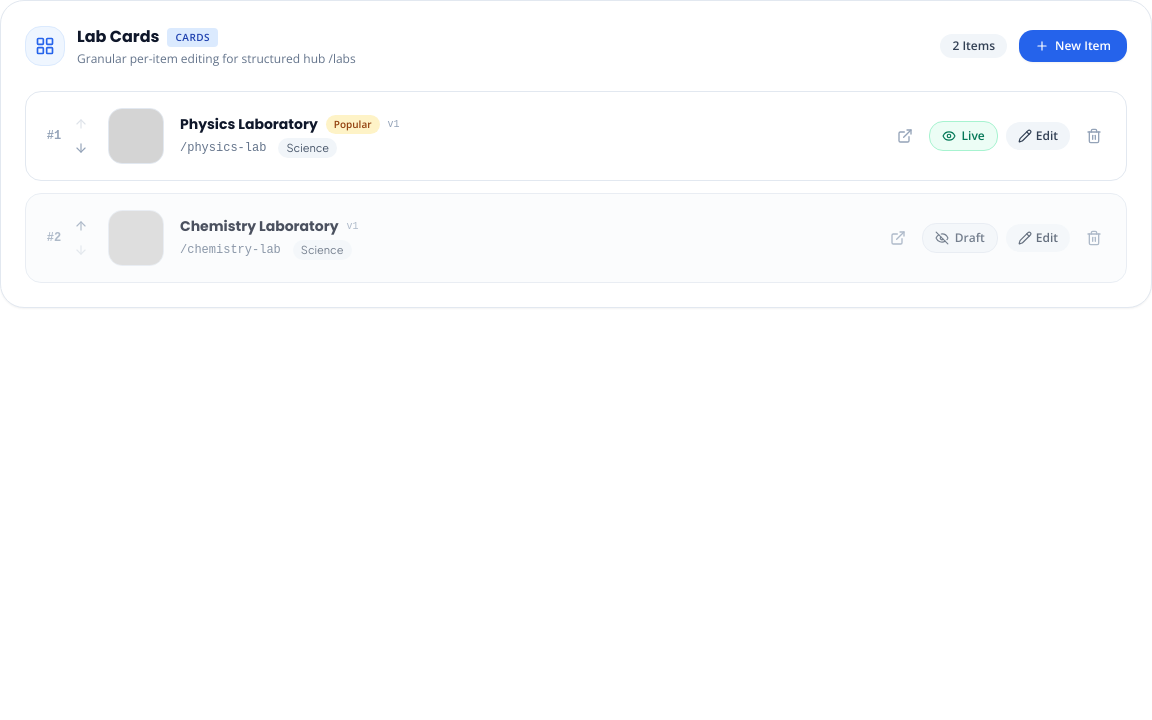
Scenario: ItemsManager Component › opens item drawer when "New Item" is clicked
expect the heading "Physics Laboratory" is shown: met, box 180,114 -> 318,134
Step 1. Click the button "New Item" → click(1073, 46), box 1019,30 -> 1127,62
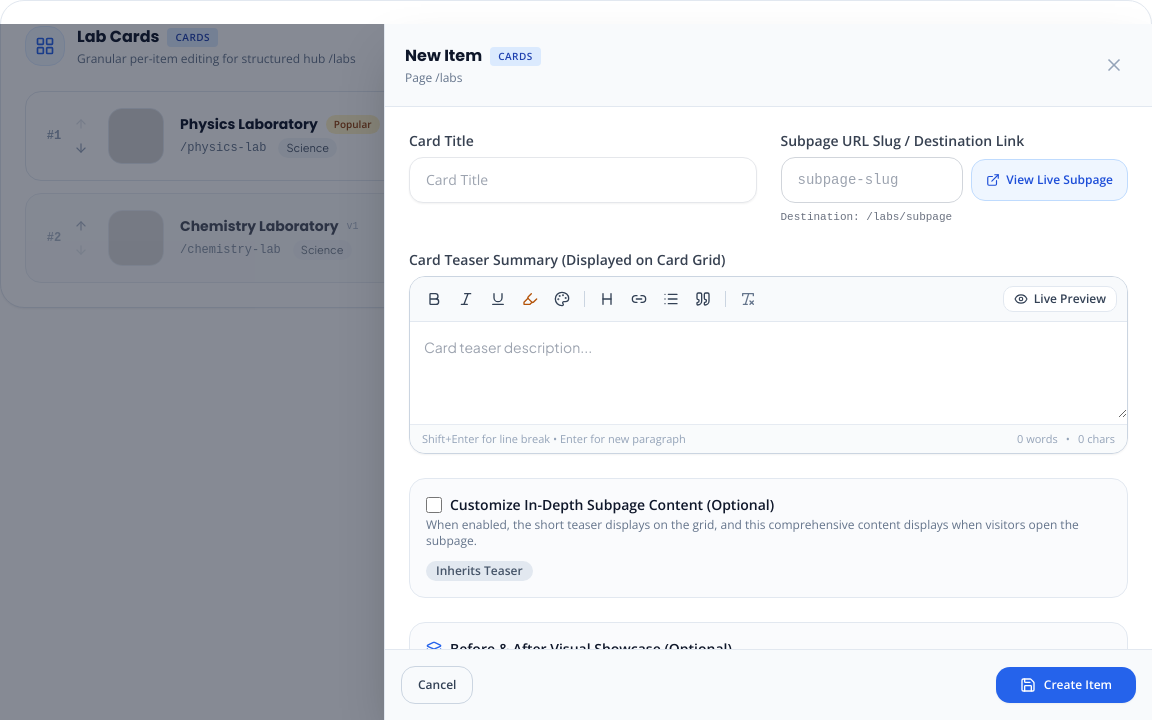
expect the heading "New Item" is shown: met, box 405,44 -> 482,68
